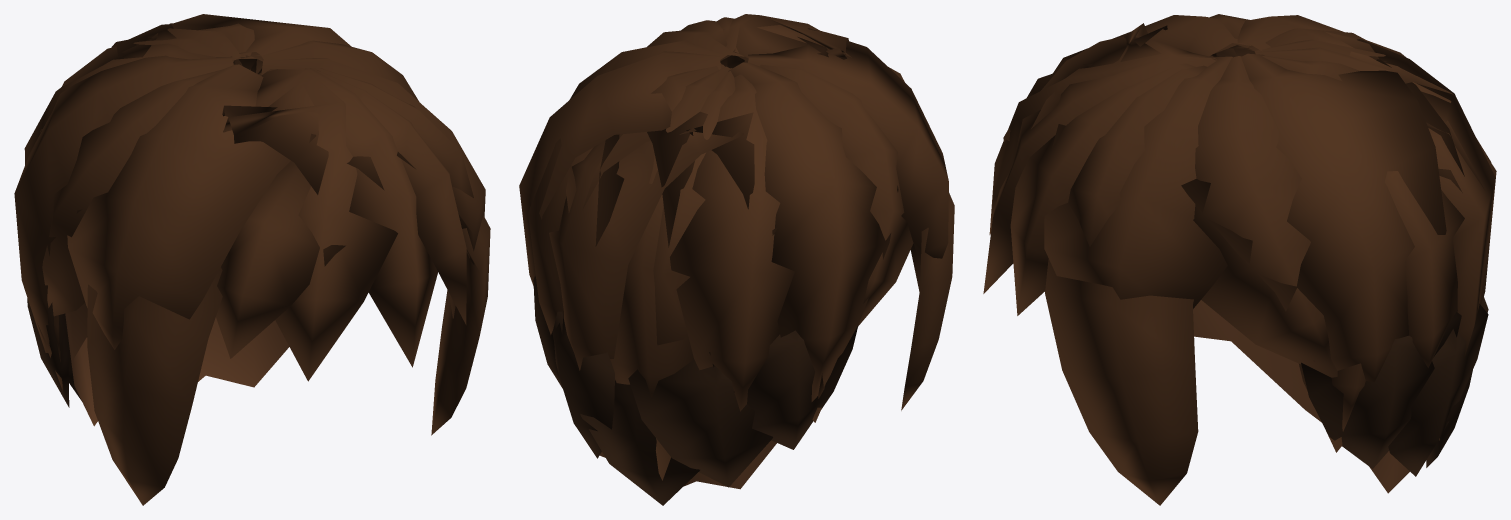
Rendered from hair_f_curto_tight_f.glb.
3 views of the same model, side by side, from view 1: azimuth 30°, elevation 25°; view 2: azimuth 150°, elevation 25°; view 3: azimuth 270°, elevation 25° (orthographic). The views are drawn at different scales.
Parts seen in each view (by area): view 1: HairTop, HairCap, HairUnder; view 2: HairTop, HairUnder, HairCap; view 3: HairTop, HairUnder, HairCap.
Boxes of the visible parts, left/top/right/bottom form: HairTop: left=14, top=14, right=490, bottom=505; HairCap: left=65, top=303, right=289, bottom=426; HairUnder: left=27, top=298, right=81, bottom=407; HairTop: left=519, top=14, right=954, bottom=480; HairUnder: left=533, top=276, right=858, bottom=505; HairCap: left=599, top=440, right=776, bottom=489; HairTop: left=983, top=14, right=1496, bottom=505; HairUnder: left=1301, top=296, right=1488, bottom=476; HairCap: left=1193, top=300, right=1409, bottom=493.
Bounding box in the file's own units: 0.207 × 0.229 × 0.2459.
